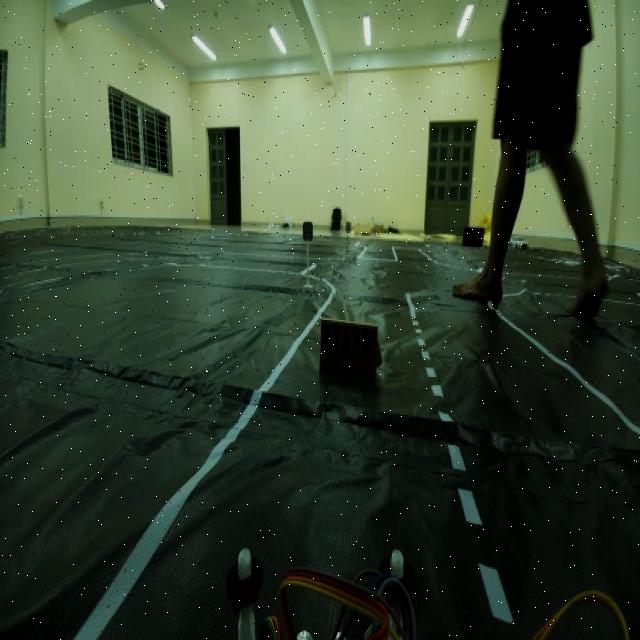roadblock: (313, 300, 392, 400)
